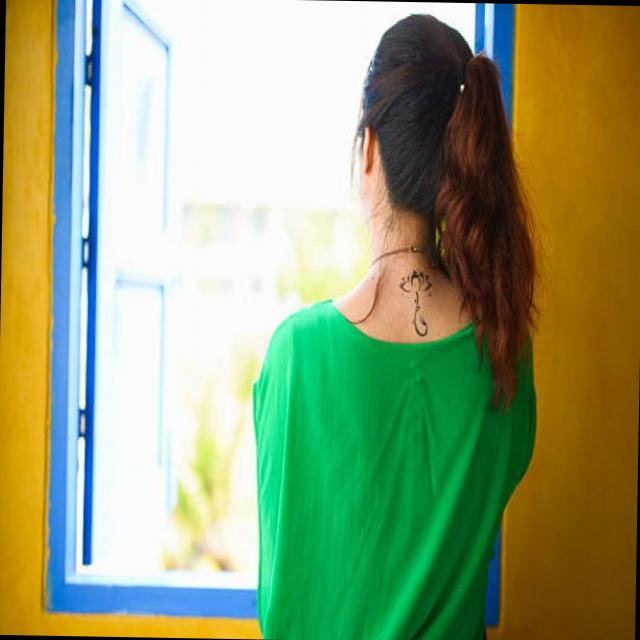no helmet: (350, 8, 505, 250)
